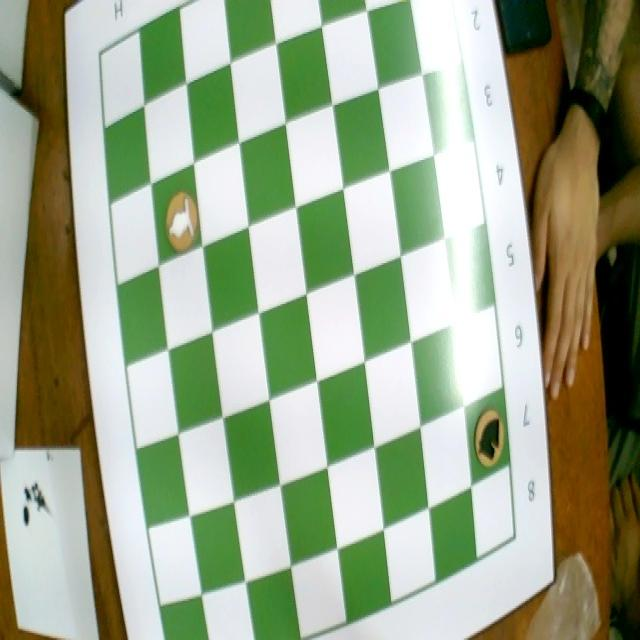chess-pieces: (162, 188, 203, 262), (471, 404, 508, 478)
